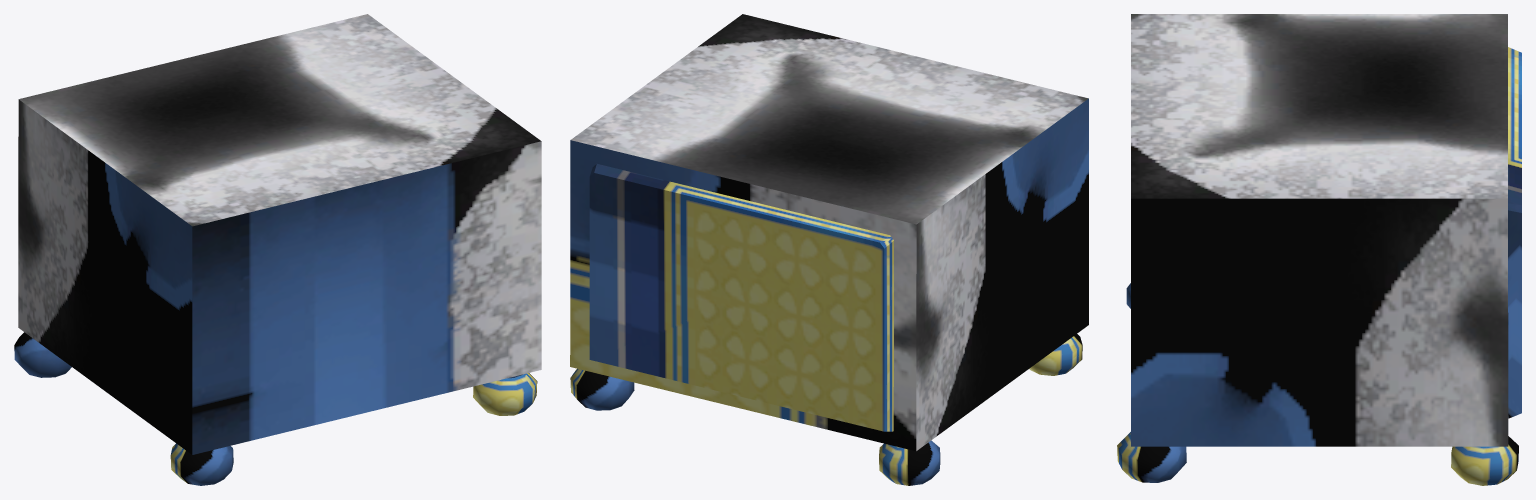
Rendered from furni_0200514.FBX.
The picture shows the model from 3 angles, left to right: view 1: azimuth 30°, elevation 25°; view 2: azimuth 150°, elevation 25°; view 3: azimuth 270°, elevation 25°; orthographic projection. The views are drawn at different scales.
Parts seen in each view (by area): view 1: furni_0200514; view 2: furni_0200514; view 3: furni_0200514.
Part boxes in pixels (box(x1,y1,x2,y2)): furni_0200514: box(14, 14, 541, 485); furni_0200514: box(570, 14, 1088, 485); furni_0200514: box(1117, 14, 1521, 485).
Size of the model in its own units: 72.08 by 50.25 by 63.82.
1 material, 1 textured.
